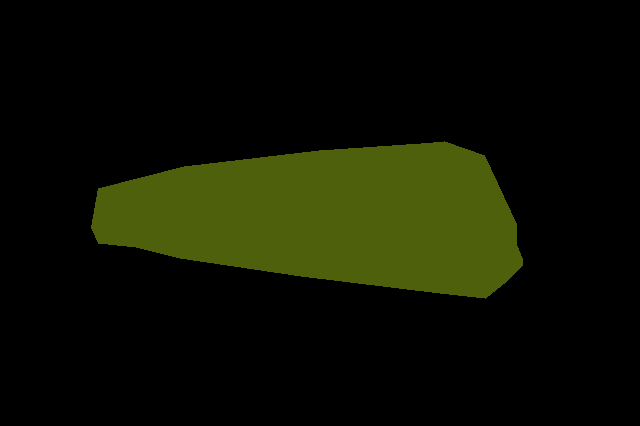Train: (91, 141, 522, 298)
